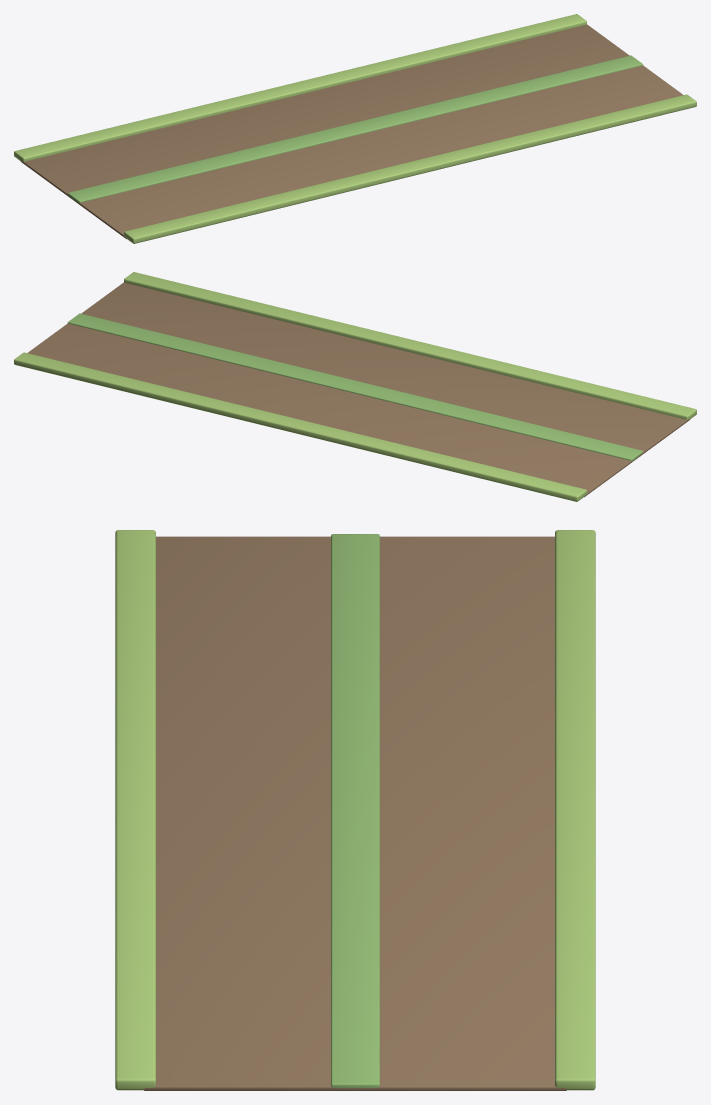
File: michi.glb
3 renders of one model, top to bottom at view 1: azimuth 30°, elevation 25°; view 2: azimuth 150°, elevation 25°; view 3: azimuth 270°, elevation 25°, orthographic. The views are drawn at different scales.
Visible parts, largest first — view 1: michi; view 2: michi; view 3: michi.
Part boxes in pixels (left/top/right/bottom): michi: left=14, top=14, right=696, bottom=243; michi: left=14, top=272, right=696, bottom=501; michi: left=115, top=530, right=595, bottom=1090.
Size of the model in its own units: 8 by 0.08 by 2.95.
